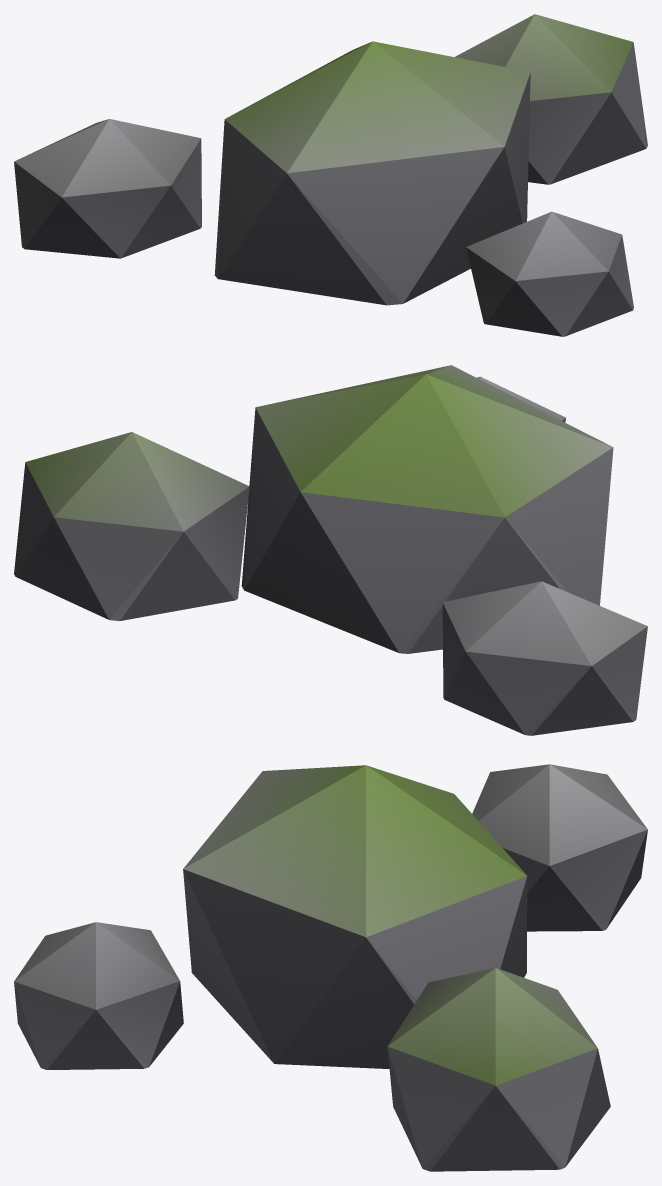
Rendered from deco-pebbles.glb.
The picture shows the model from 3 angles, top to bottom: view 1: azimuth 30°, elevation 25°; view 2: azimuth 150°, elevation 25°; view 3: azimuth 270°, elevation 25°; orthographic projection. The views are drawn at different scales.
Parts seen in each view (by area): view 1: 0_pebbles; view 2: 0_pebbles; view 3: 0_pebbles.
Boxes of the visible parts, <box> form: 0_pebbles: <box>14,14,647,336</box>; 0_pebbles: <box>14,365,647,735</box>; 0_pebbles: <box>14,764,647,1171</box>.
Bounding box in the file's own units: 0.7815 × 0.2514 × 0.6207.
